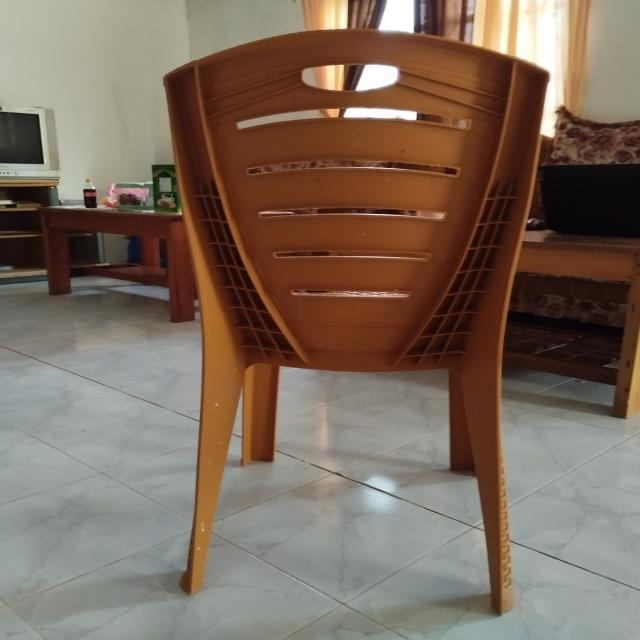chair: (158, 16, 552, 617)
